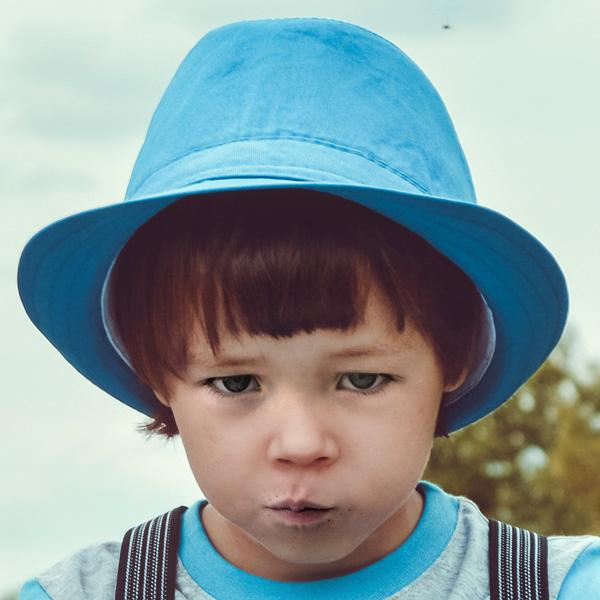Eyes: (318, 358, 409, 406), (192, 360, 275, 412)
